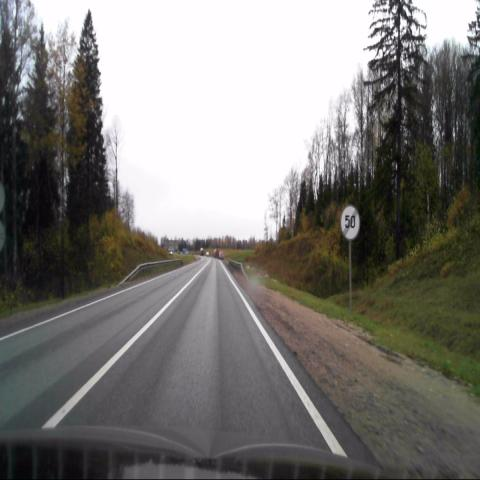3_31: (340, 205, 360, 241)
